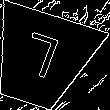L_S: (16, 30, 66, 88)
